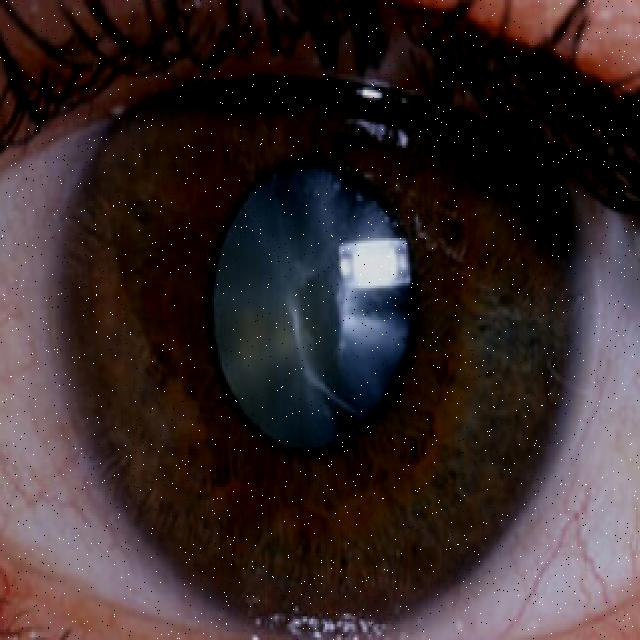Cataract: (44, 23, 604, 589)
